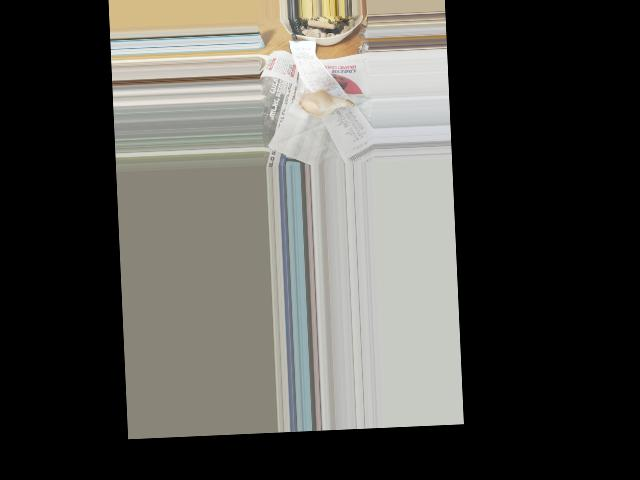onion: (300, 90, 336, 115)
